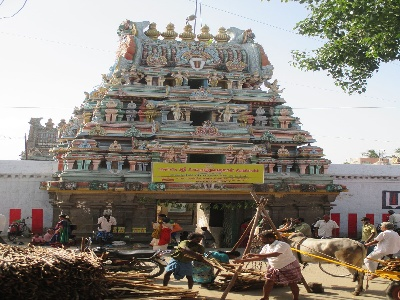gopura: (72, 23, 348, 188)
